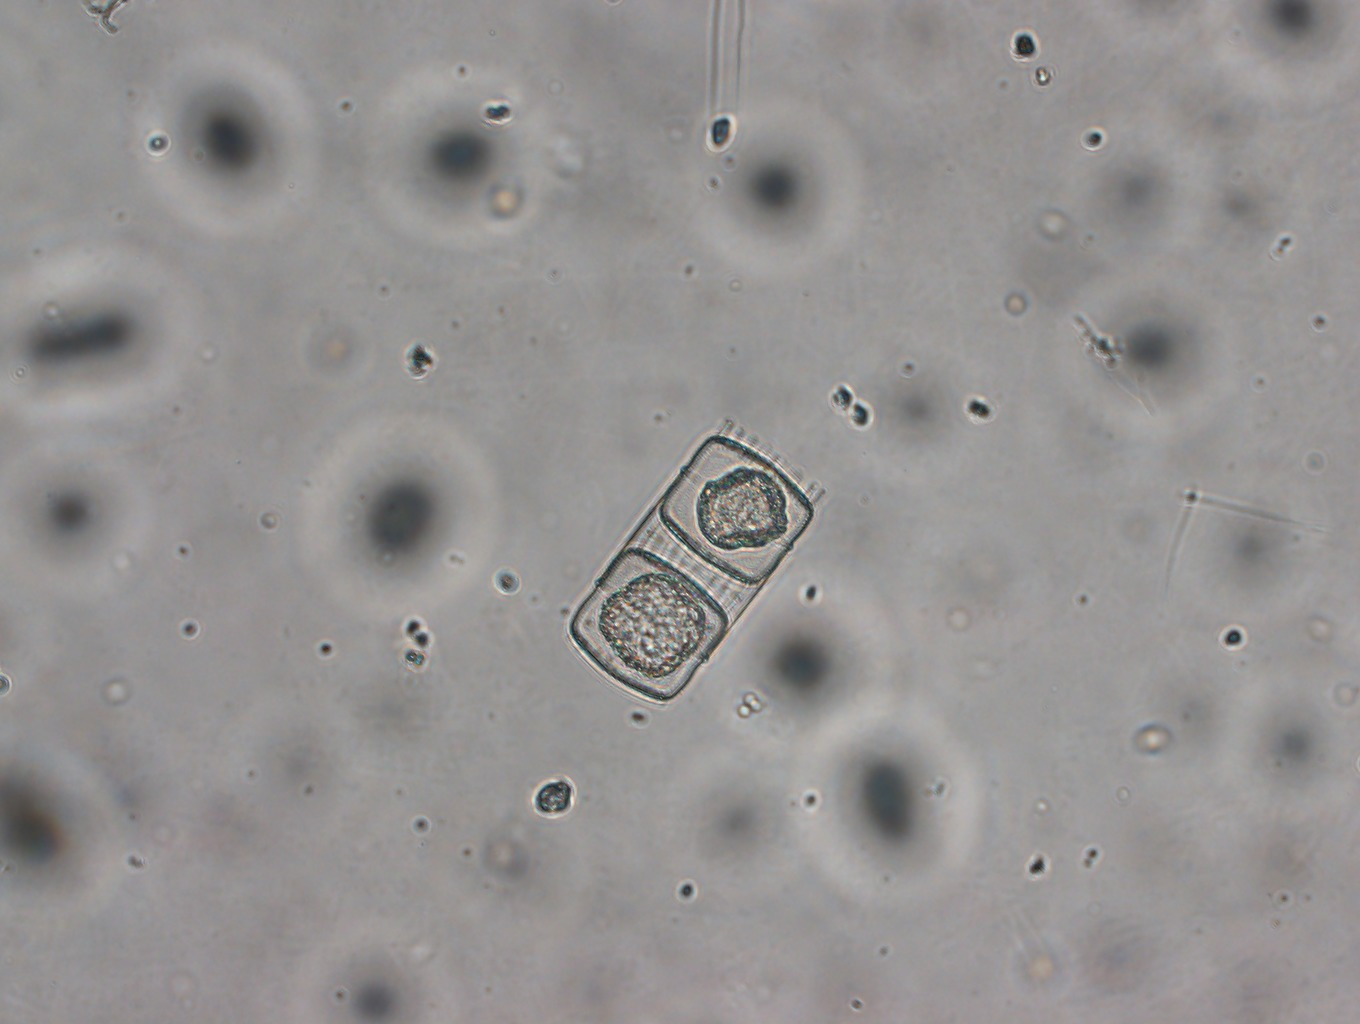corethron: (567, 417, 826, 701)
